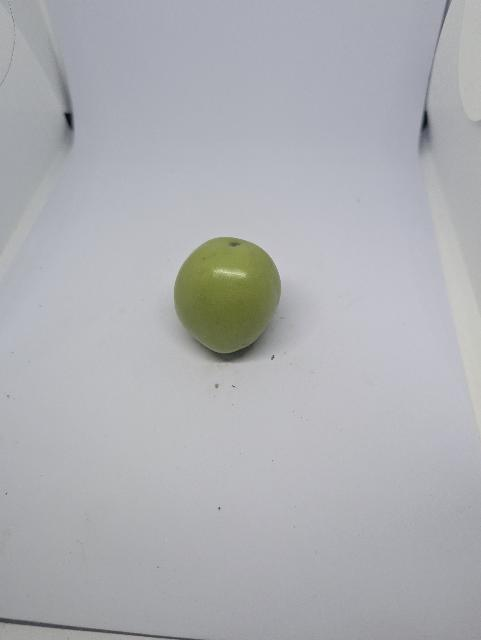green: (151, 210, 307, 371)
